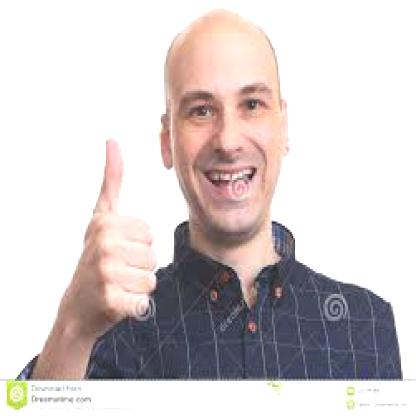Thumbs up: (46, 135, 159, 323)
